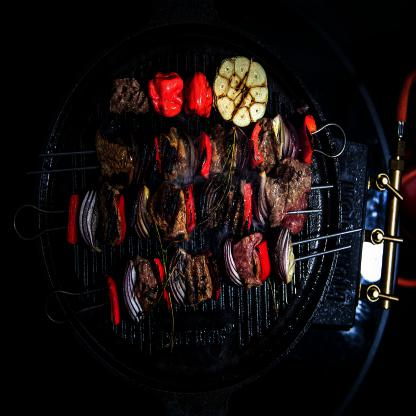Carne: (93, 131, 134, 191), (280, 154, 312, 222), (107, 72, 150, 118), (152, 180, 184, 241), (184, 250, 212, 307), (135, 258, 162, 312), (266, 172, 282, 234)
